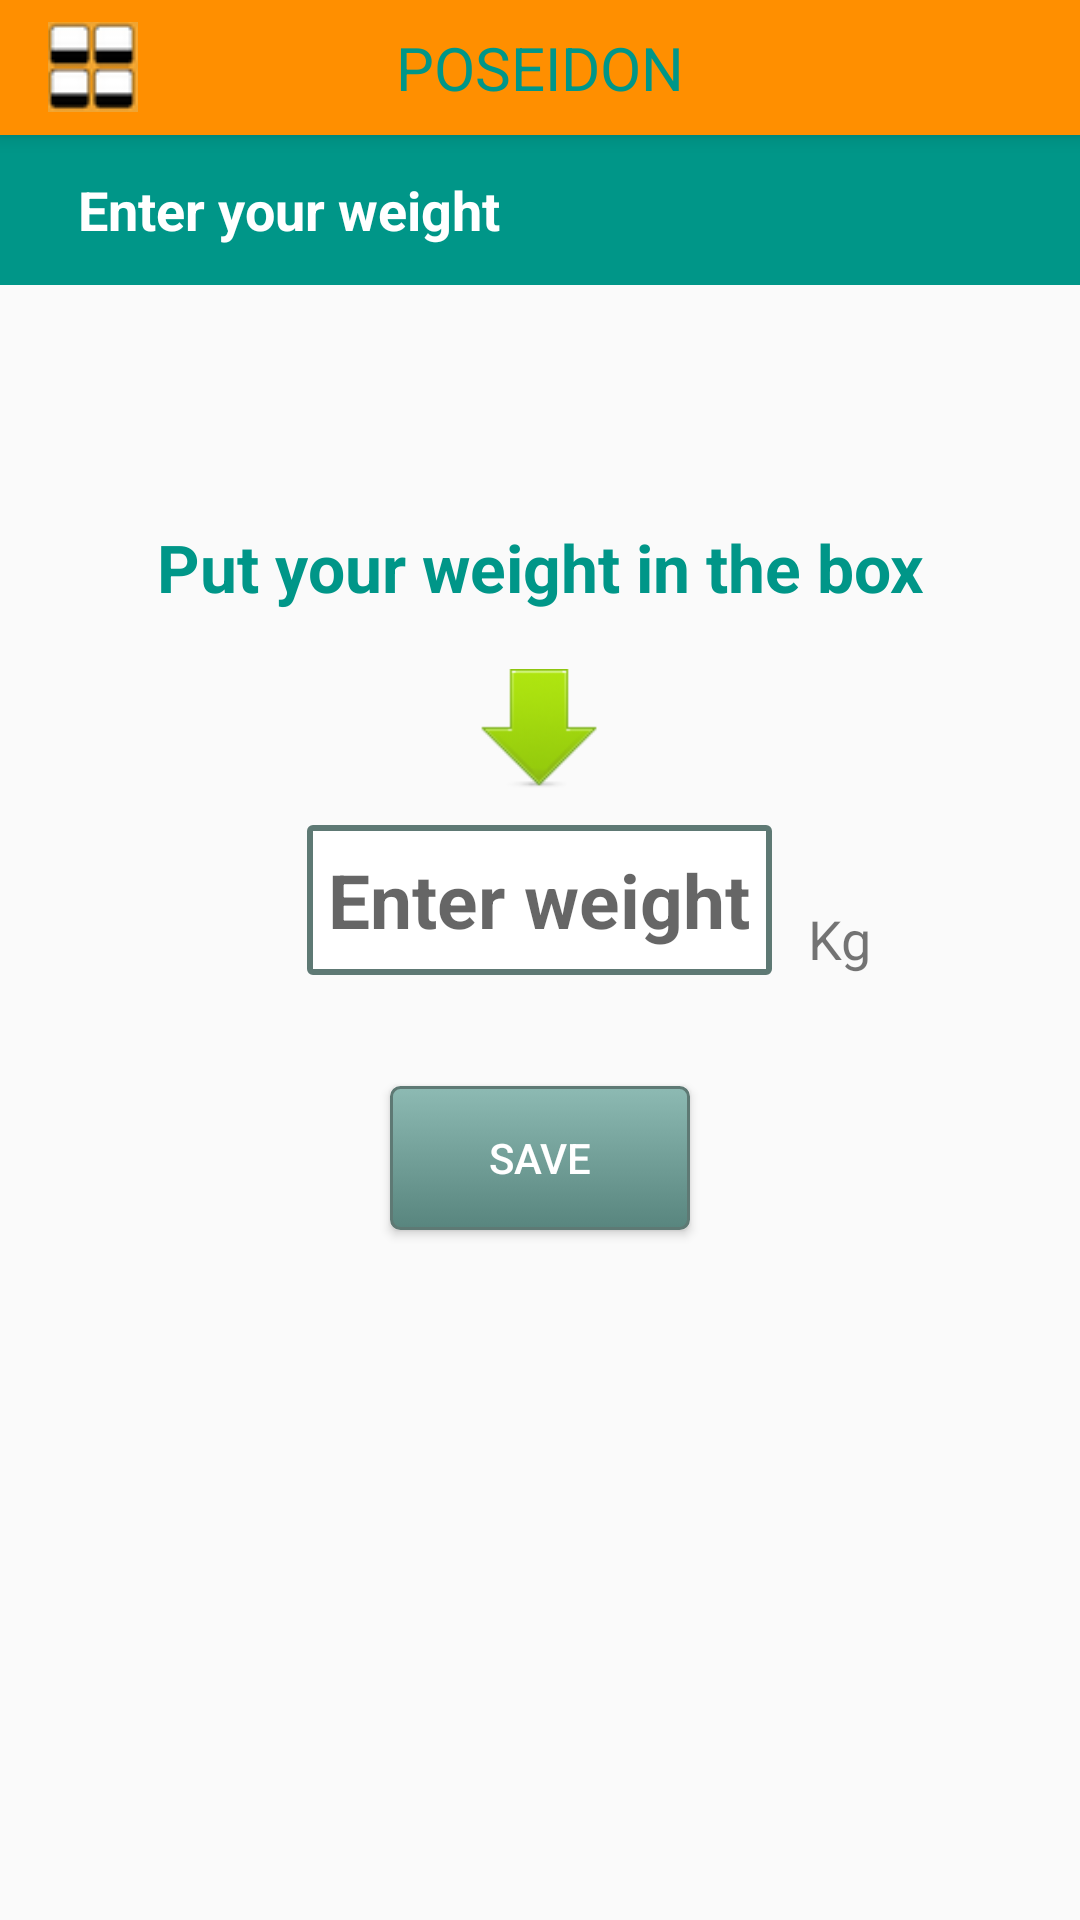

Screen size 1080px×1920px. Icon name, then its box in pixels as (x1, y1, x2, y2):
downicon: (481, 669, 597, 786)
homebutton: (48, 22, 138, 112)
